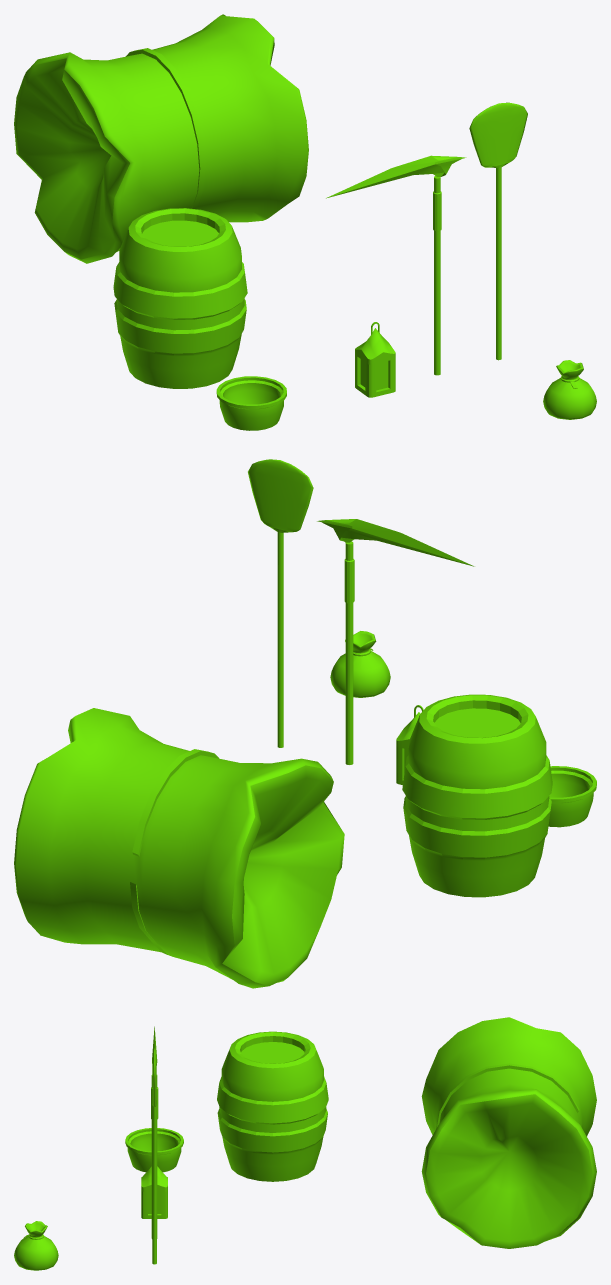
Rendered from Props.fbx.
3 renders of one model, top to bottom at view 1: azimuth 30°, elevation 25°; view 2: azimuth 150°, elevation 25°; view 3: azimuth 270°, elevation 25°, orthographic. The views are drawn at different scales.
Parts seen in each view (by area): view 1: haybale, Barrel, broom, Bucket, scythe, bag, Lantern, lantern_top; view 2: haybale, Barrel, broom, scythe, bag, Bucket; view 3: haybale, Barrel, Bucket, bag, broom, scythe, lantern_top, Lantern.
Boxes of the visible parts, x1,y1,x2,y2 form: haybale: (14,14,308,263); Barrel: (113,208,247,388); broom: (469,102,527,360); Bucket: (216,376,286,430); scythe: (326,155,466,375); bag: (543,360,596,419); Lantern: (355,355,395,397); lantern_top: (355,328,395,364); haybale: (14,708,344,988); Barrel: (402,694,552,897); broom: (248,459,313,747); scythe: (317,519,474,764); bag: (330,631,390,697); Bucket: (548,766,596,827); haybale: (421,1017,596,1248); Barrel: (217,1031,328,1181); Bucket: (125,1128,183,1172); bag: (14,1221,58,1270); broom: (152,1048,156,1264); scythe: (151,1026,158,1238); lantern_top: (141,1166,167,1191); Lantern: (141,1190,167,1218).
Bounding box in the file's own units: 2.71 × 1.98 × 4.93.
